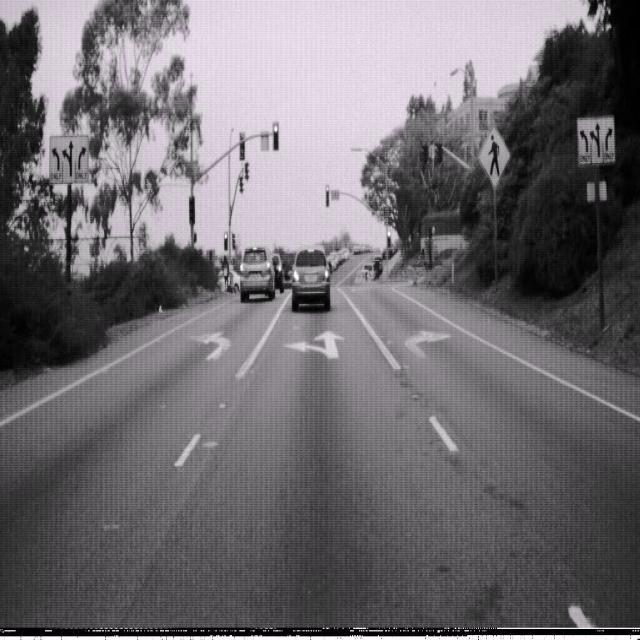pedestrianCrossing: (477, 122, 511, 188)
